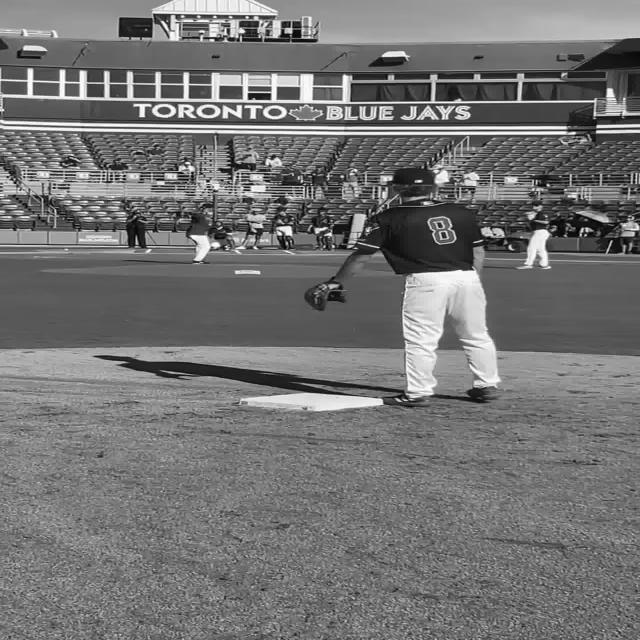base: (235, 392, 392, 412)
baseball_glove: (303, 278, 347, 311)
shoe: (380, 394, 430, 406), (466, 386, 498, 400), (514, 264, 532, 270), (539, 266, 551, 269)
